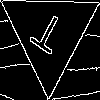T: (24, 9, 68, 64)
